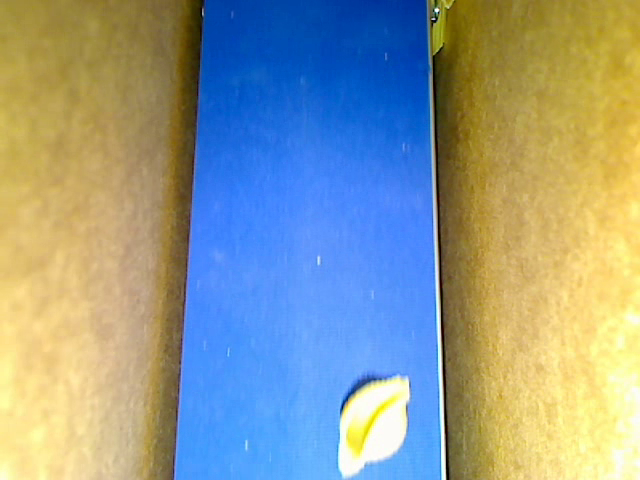penne: (427, 1, 446, 58), (438, 1, 459, 15)
shell: (332, 371, 410, 478)
